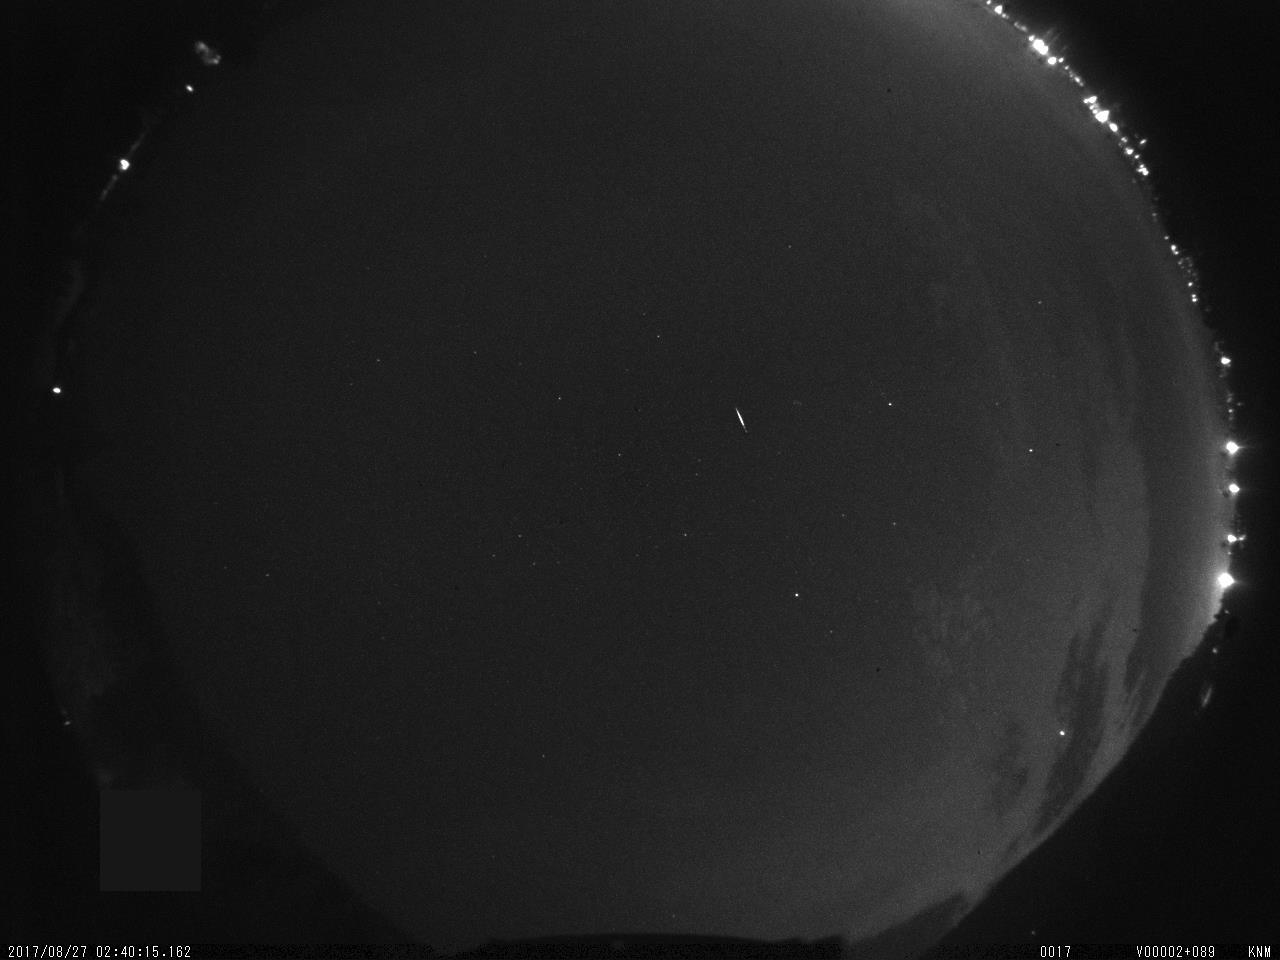meteor: (731, 393, 756, 441)
